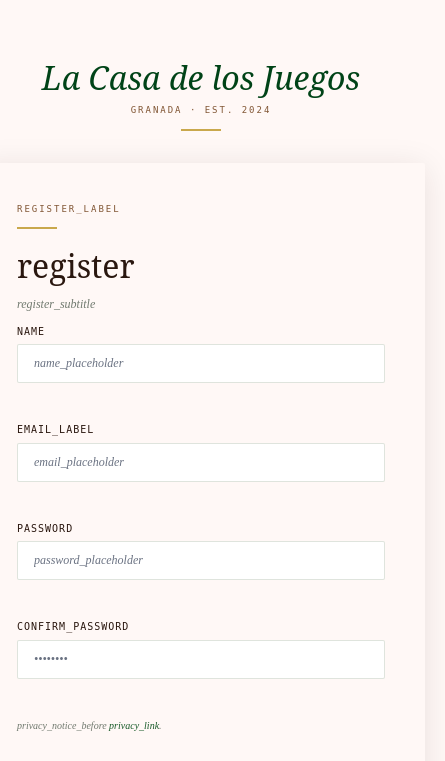
components/auth/RegisterForm.tsx › muestra error_user_already_registered cuando el servidor lo indica
Type "Ana" into the field labelled "name" at (201, 364), box [17, 344, 385, 383]
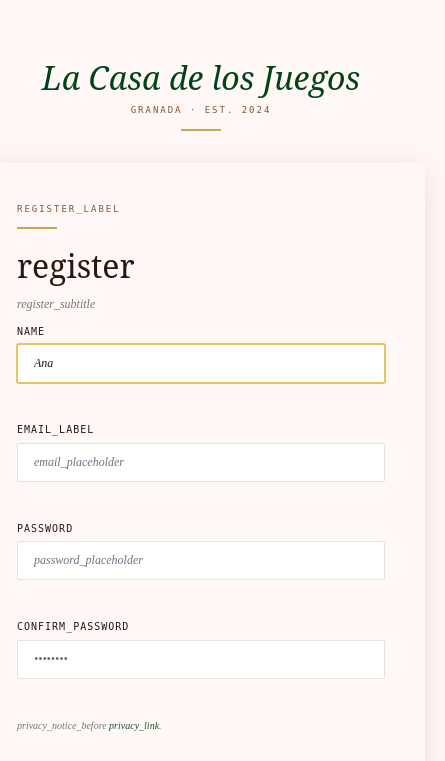
Type "existing@test.com" into the field labelled "email_label" at (201, 462), box [17, 443, 385, 482]
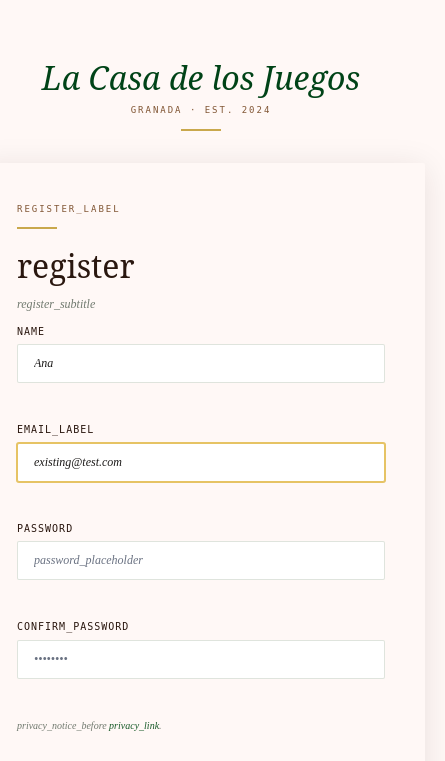
Type "mypassword" into the password field labelled "password" at (201, 561), box [17, 541, 385, 580]
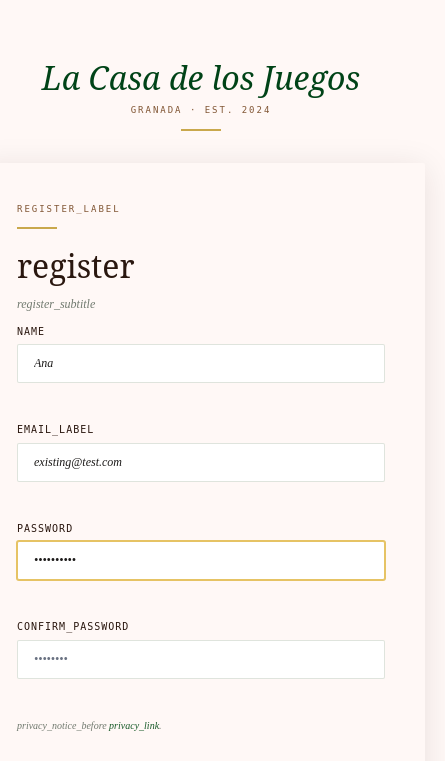
Type "mypassword" into the password field labelled "confirm_password" at (201, 659), box [17, 640, 385, 679]
(page scrolled)
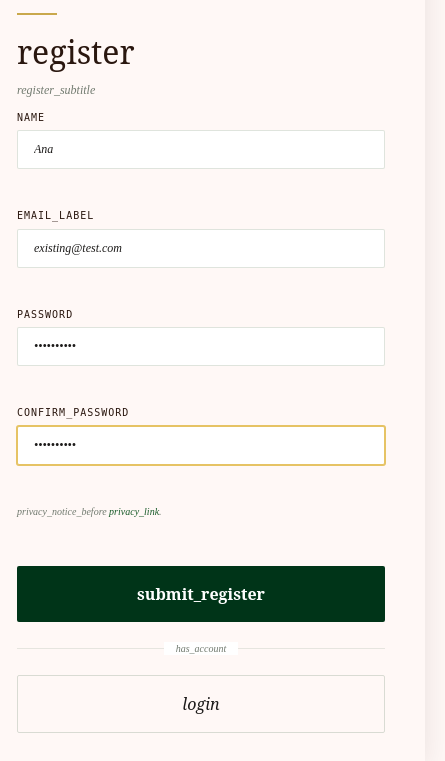
Click the button "submit_register" at (201, 594), box [17, 566, 385, 622]
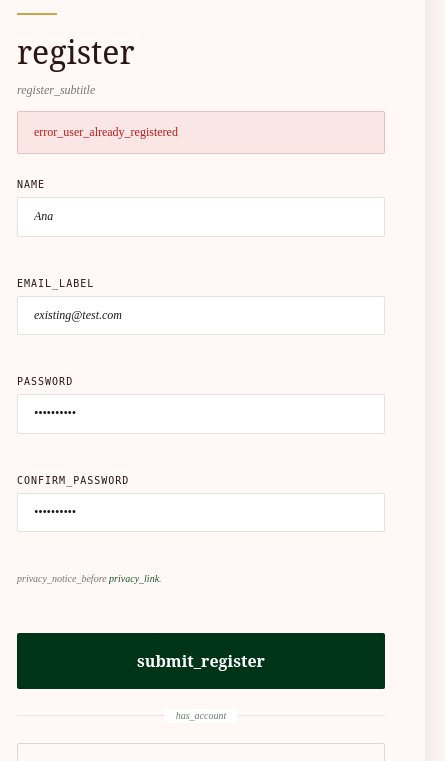
Now the text "error_user_already_registered" is shown, box [17, 111, 385, 154]
